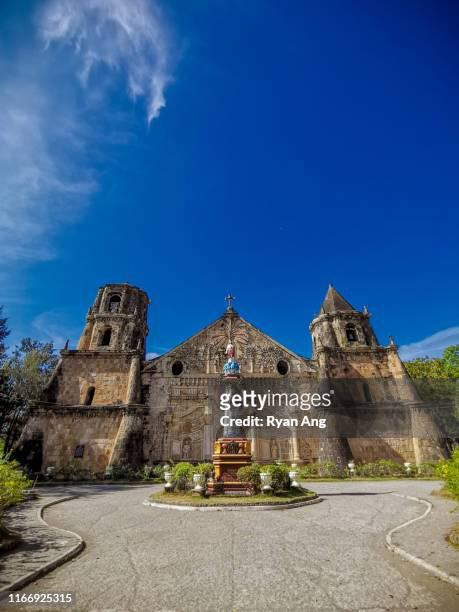Miagao Church: (22, 276, 450, 479)
